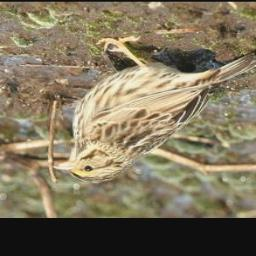Sparrow: (53, 34, 256, 185)
